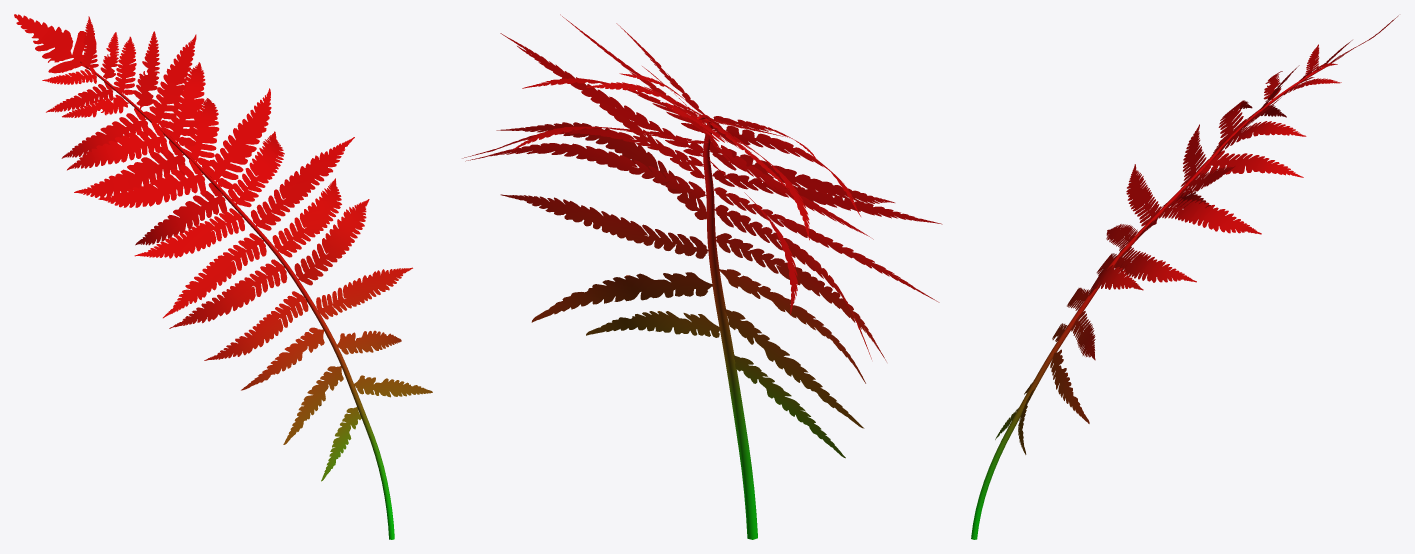
File: Silvery Glade Fern_LOD0_Var3_xf5lebcqx.fbx
3 views of the same model, side by side, from view 1: azimuth 30°, elevation 25°; view 2: azimuth 150°, elevation 25°; view 3: azimuth 270°, elevation 25° (orthographic). The views are drawn at different scales.
Parts seen in each view (by area): view 1: _klpb_Var3_LOD0; view 2: _klpb_Var3_LOD0; view 3: _klpb_Var3_LOD0.
Part boxes in pixels (bbox=[...]): _klpb_Var3_LOD0: bbox=[14, 14, 432, 539]; _klpb_Var3_LOD0: bbox=[462, 14, 942, 539]; _klpb_Var3_LOD0: bbox=[971, 15, 1398, 539].
Bounding box in the file's own units: 18.48 × 27.29 × 24.25.
